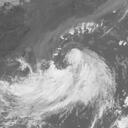cyclone: (24, 46, 115, 113)
